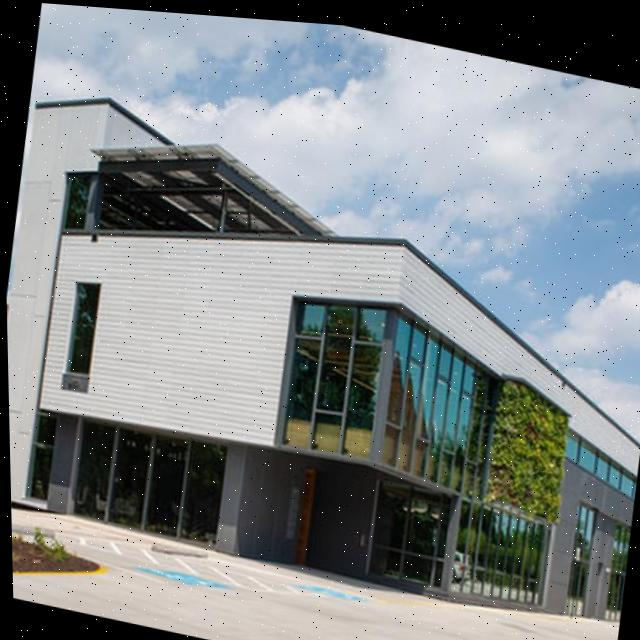building: (2, 88, 640, 633)
